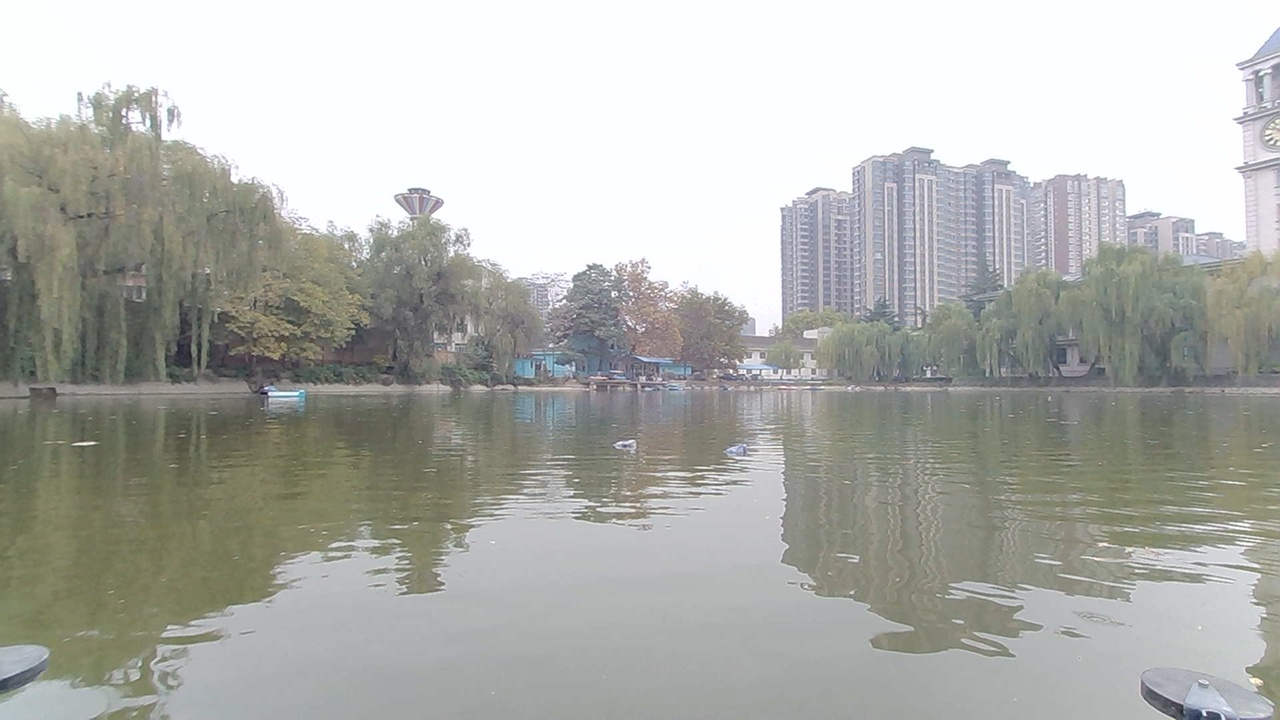bottle: (606, 428, 645, 454), (724, 442, 757, 459)
